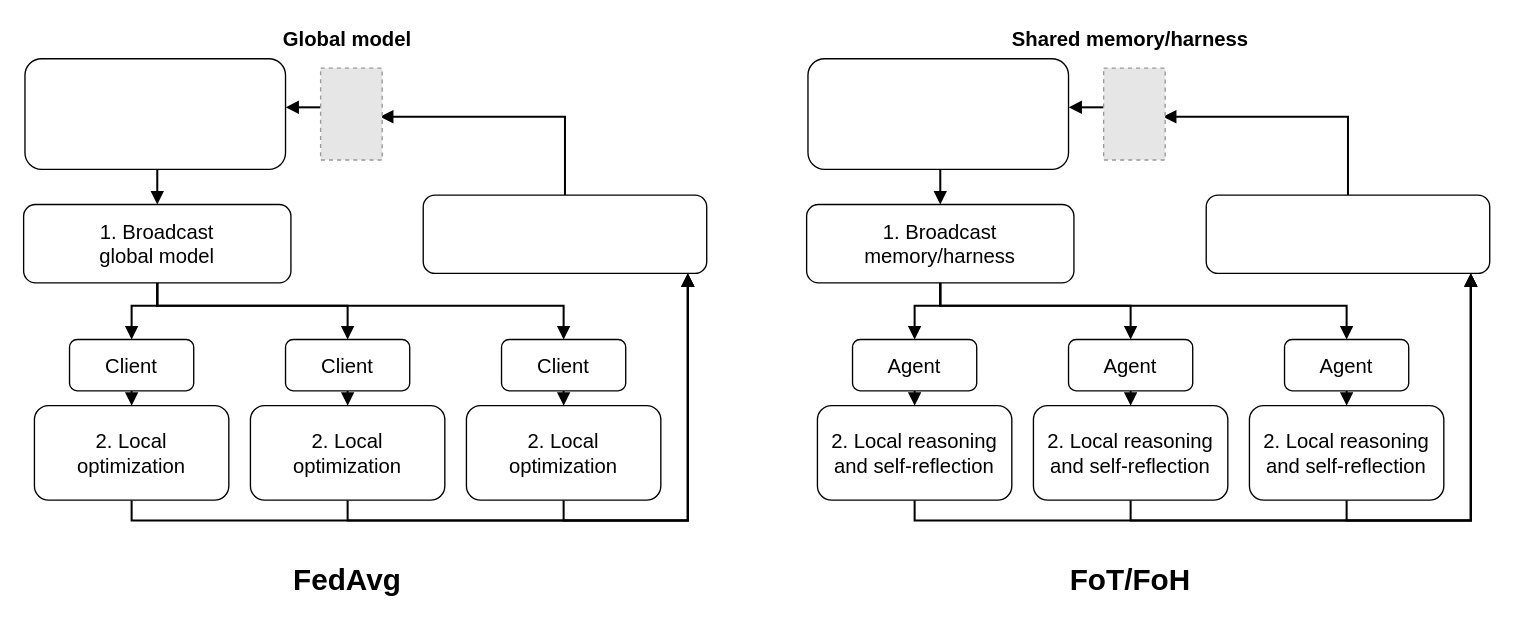
This 1513x621 diagram has some shape labels left out. Grey dashed boxes stand in for pictures. Each missing label, with the box of its shape:
3. Upload model weights: (422, 194, 707, 273)
3. Upload reasoning traces: (1205, 194, 1490, 273)
4. Aggregate model weights to update the model: (24, 57, 286, 169)
4. Aggregate traces to update shared memory/harness: (807, 57, 1069, 169)
